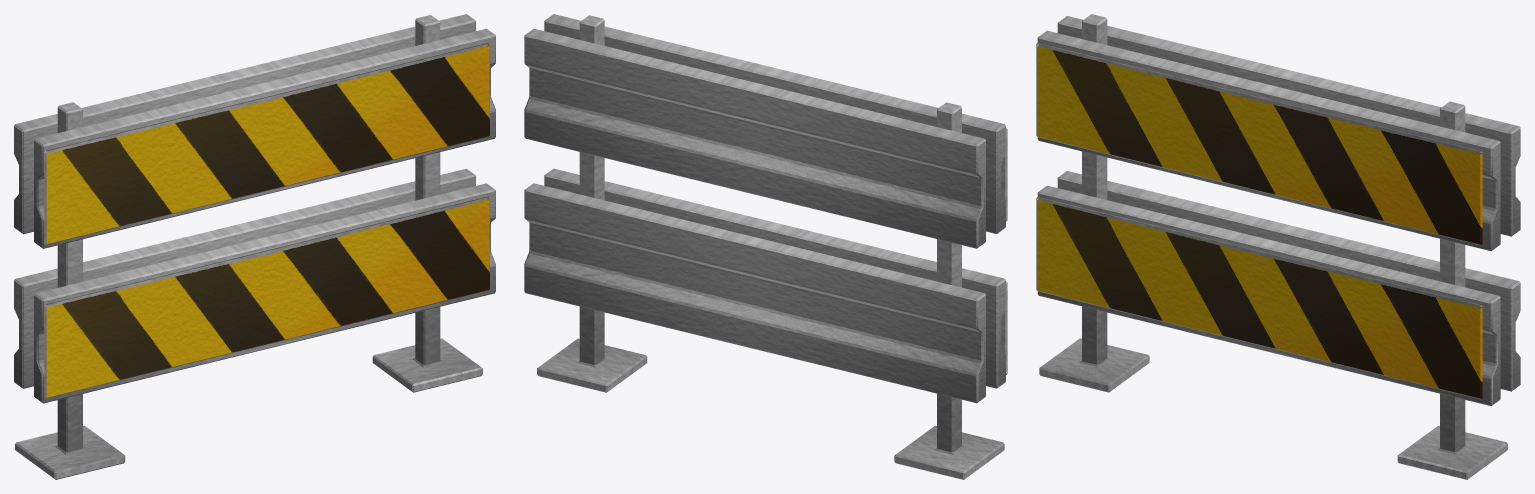
File: Barrier_Double_Short_Right.fbx
3 renders of one model, left to right at view 1: azimuth 30°, elevation 25°; view 2: azimuth 150°, elevation 25°; view 3: azimuth 330°, elevation 25°, orthographic.
Parts seen in each view (by area): view 1: Barrier_Double_Short_Right; view 2: Barrier_Double_Short_Right; view 3: Barrier_Double_Short_Right.
Part boxes in pixels (x1=…): Barrier_Double_Short_Right: x1=14, y1=14, x2=495, y2=479; Barrier_Double_Short_Right: x1=524, y1=14, x2=1007, y2=479; Barrier_Double_Short_Right: x1=1036, y1=14, x2=1520, y2=479.
Size of the model in its own units: 78.8 by 58.1 by 12.31.
2 materials, 2 textured.
